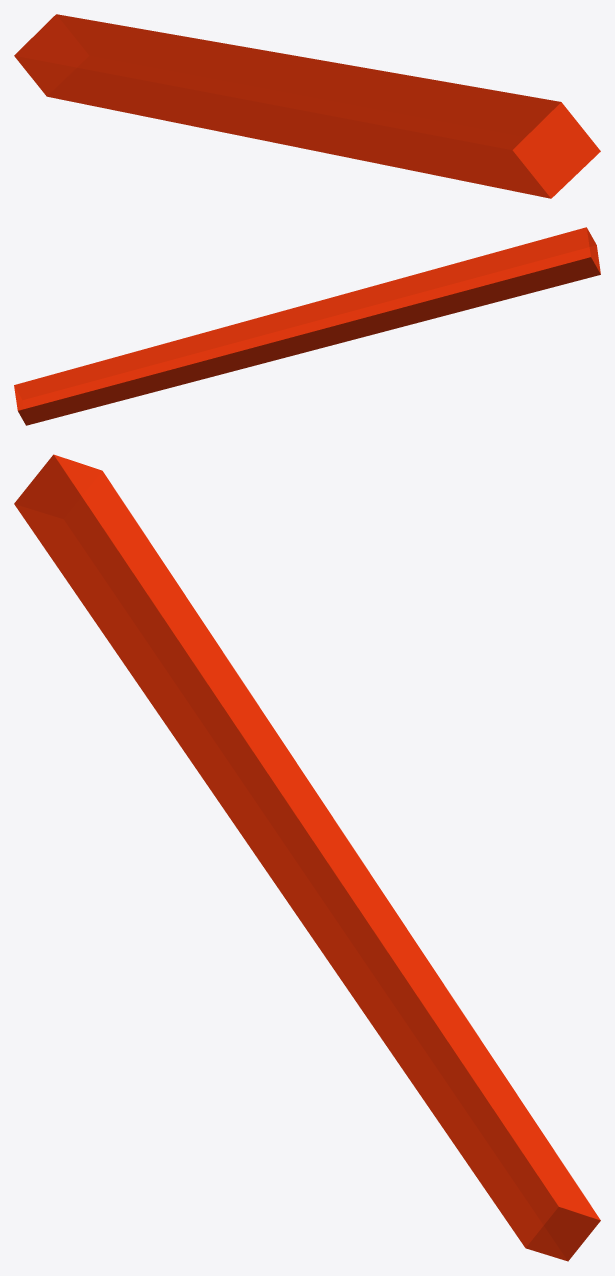
Rendered from Event_421115418_EBrechit_18.fbx.
The picture shows the model from 3 angles, top to bottom: view 1: azimuth 90°, elevation 25°; view 2: azimuth 150°, elevation 25°; view 3: azimuth 270°, elevation 25°; orthographic projection. The views are drawn at different scales.
Parts seen in each view (by area): view 1: Model; view 2: Model; view 3: Model.
Part boxes in pixels (x1,y1,x2,y2): Model: (14,14,600,198); Model: (14,227,600,425); Model: (14,454,600,1261).
Bounding box in the file's own units: 1.02 × 0.4385 × 0.5819.
